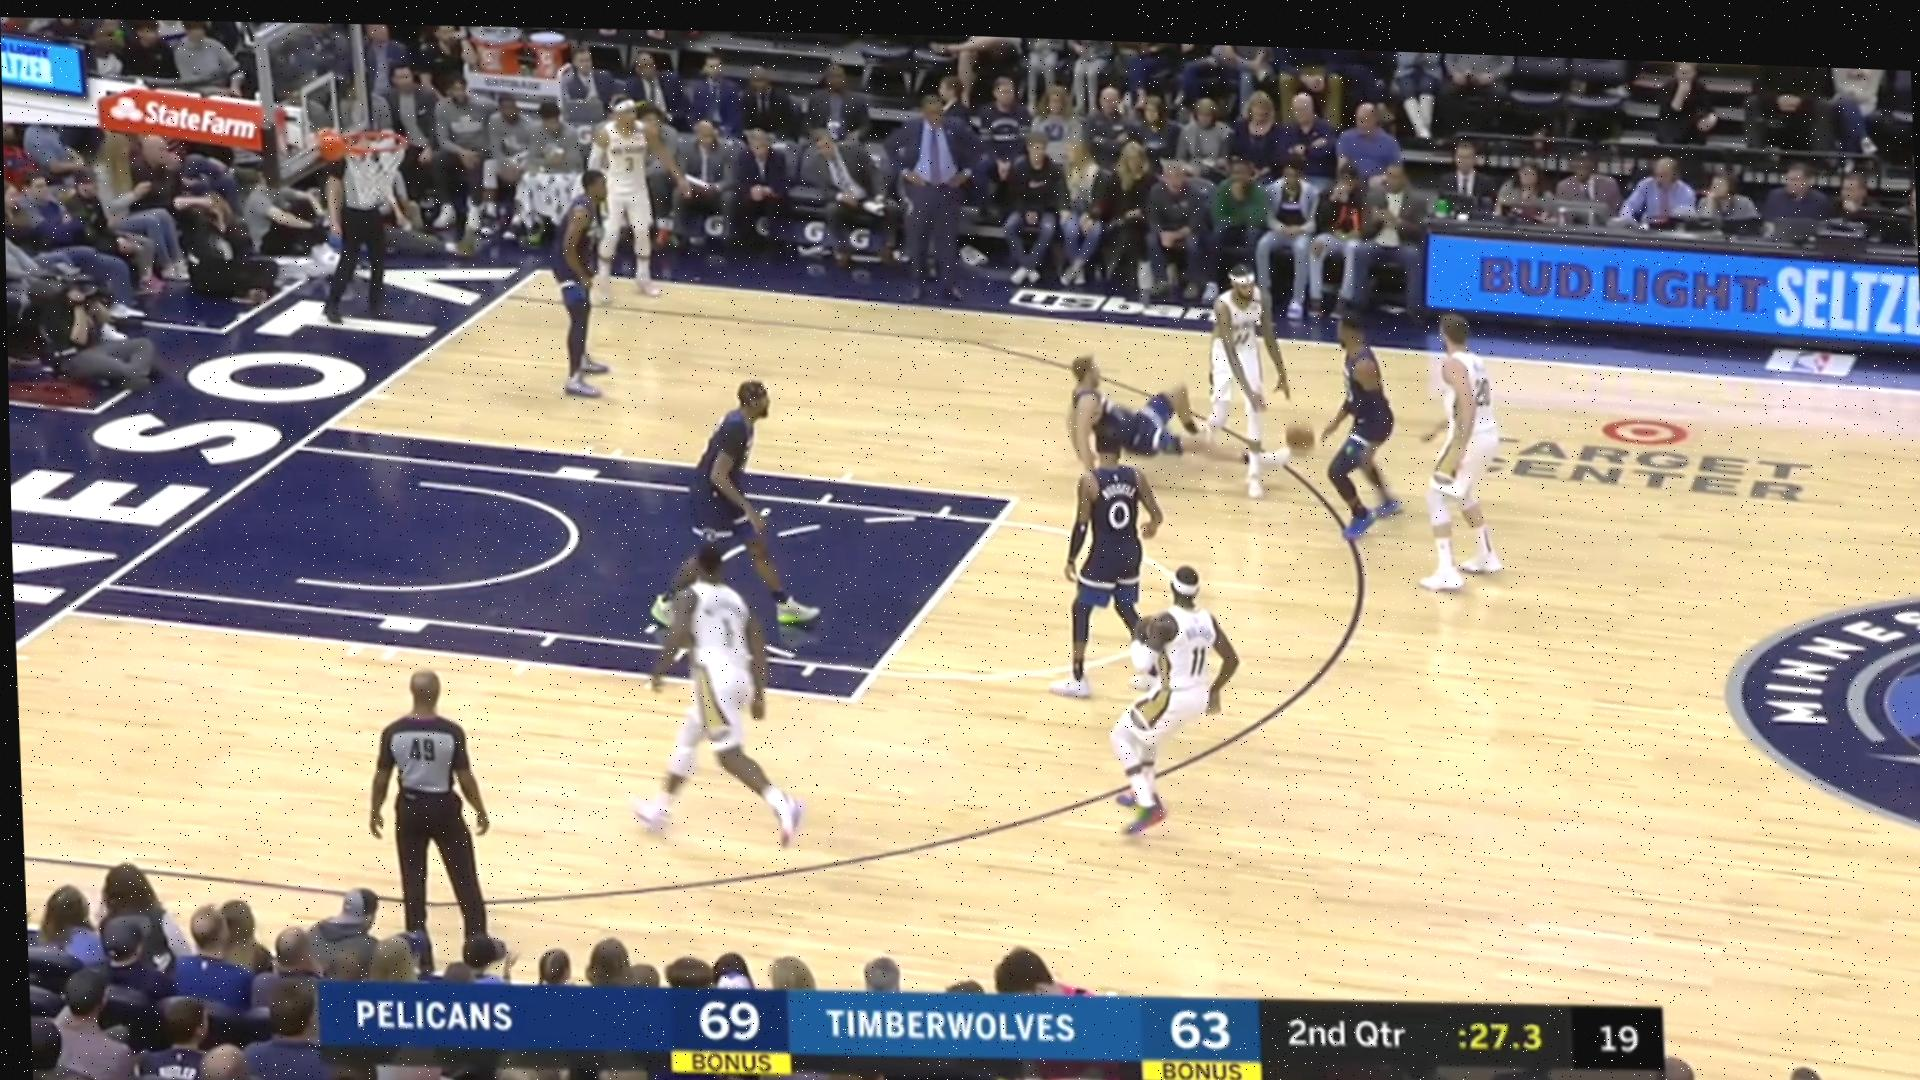no_foul: (1063, 285, 1275, 483)
